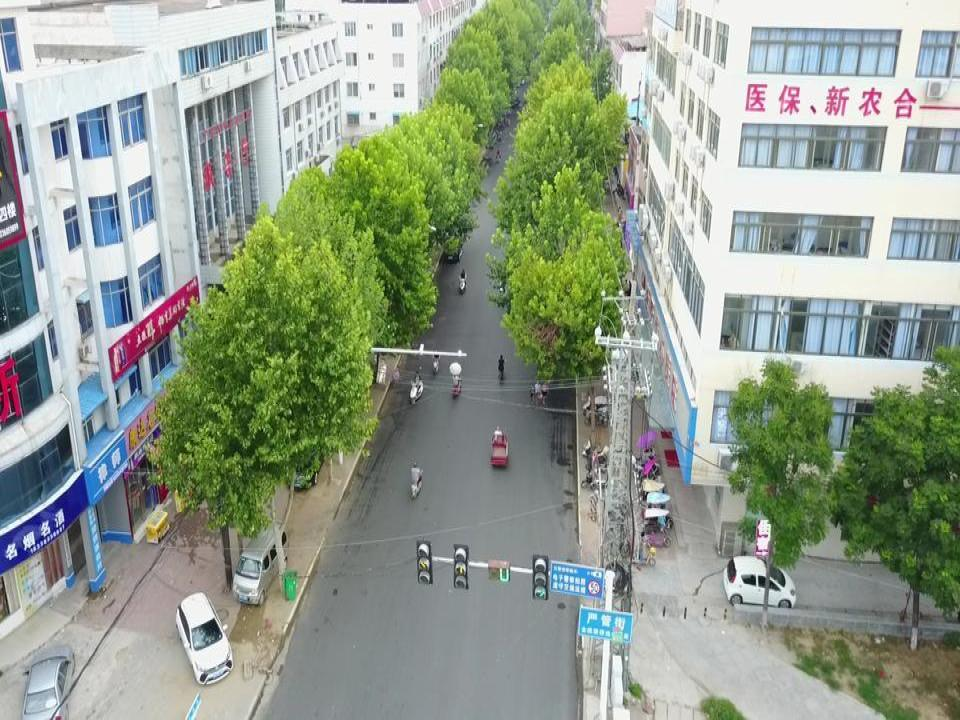car: (174, 588, 235, 687), (722, 548, 797, 611), (21, 642, 76, 720), (282, 408, 331, 488), (441, 226, 464, 262)
van: (232, 517, 290, 608)
